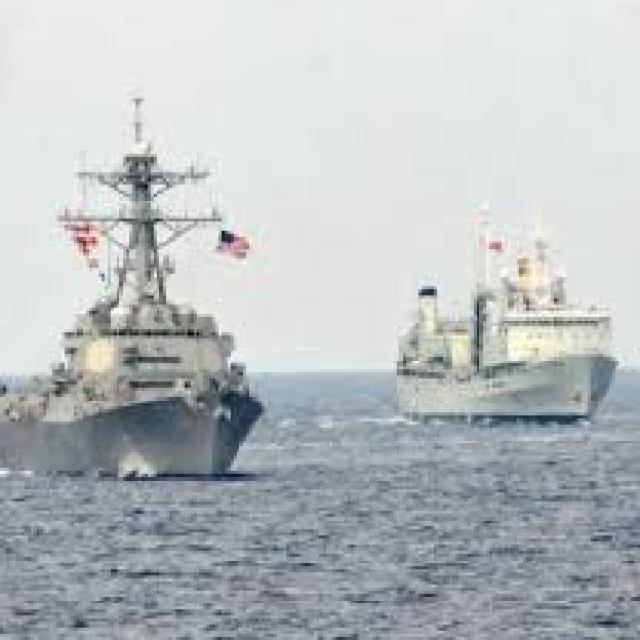navalvessels: (0, 123, 311, 495), (390, 187, 625, 429)
